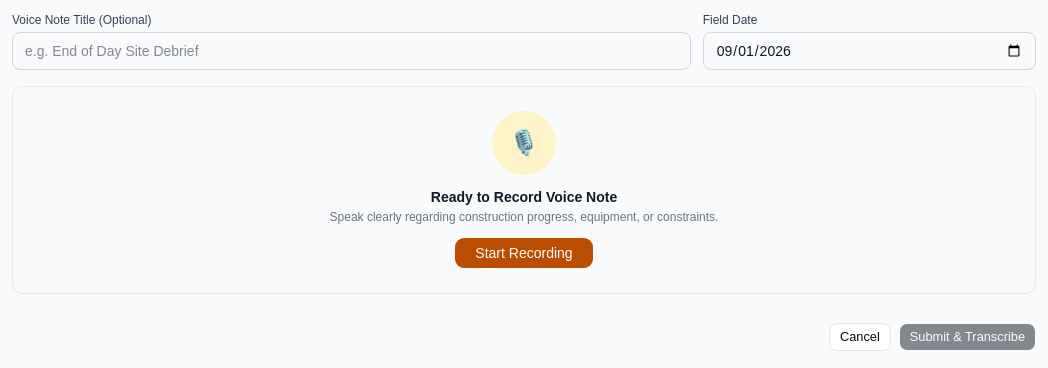
Test case: VoiceRecorder › transitions to recording state on start click and stops on stop click
Click the button "Start Recording": (524, 253) [454,237,594,269]
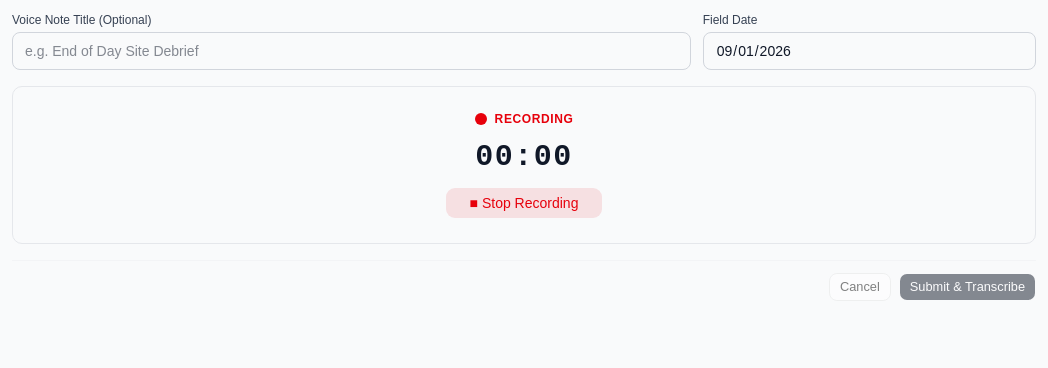
Expected: the text "Recording" is shown, [495,111,573,127]
Expected: the button "■ Stop Recording" is shown
Click the button "■ Stop Recording": (524, 203) [445,187,604,219]
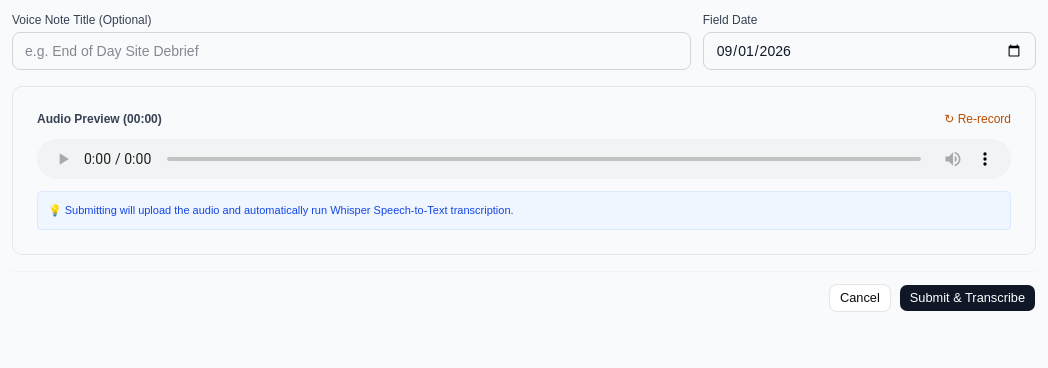
Expected: the button "Submit & Transcribe" is shown, [899,284,1036,312]
Expected: the text "Audio Preview (00:00)" is shown, [37,111,162,127]
